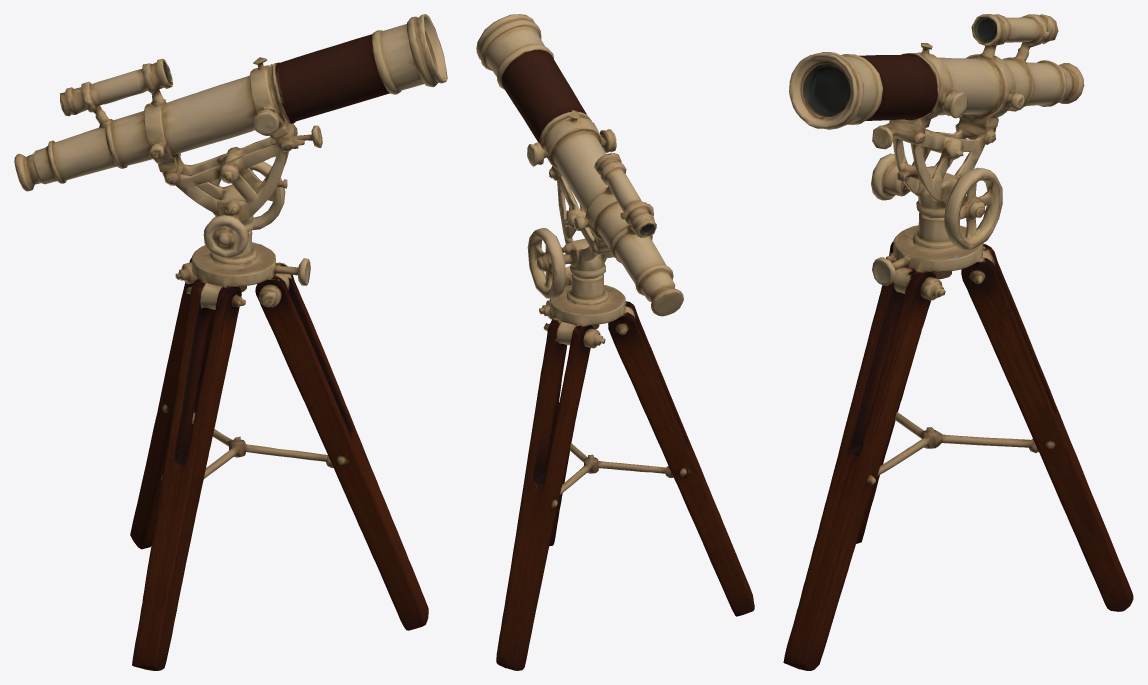
The model's file is telescope.glb.
3 renders of one model, left to right at view 1: azimuth 30°, elevation 25°; view 2: azimuth 150°, elevation 25°; view 3: azimuth 270°, elevation 25°, orthographic. The views are drawn at different scales.
Visible parts, largest first — view 1: tripo_node_82b5d5ff-8413-4669-a33f-8bae33562b17; view 2: tripo_node_82b5d5ff-8413-4669-a33f-8bae33562b17; view 3: tripo_node_82b5d5ff-8413-4669-a33f-8bae33562b17.
Boxes of the visible parts, <box> form: tripo_node_82b5d5ff-8413-4669-a33f-8bae33562b17: <box>14,14,447,670</box>; tripo_node_82b5d5ff-8413-4669-a33f-8bae33562b17: <box>476,14,754,670</box>; tripo_node_82b5d5ff-8413-4669-a33f-8bae33562b17: <box>783,14,1133,670</box>.
Bounding box in the file's own units: 0.4887 × 0.85 × 0.4305.
Materials: 1 (1 with a texture image).
